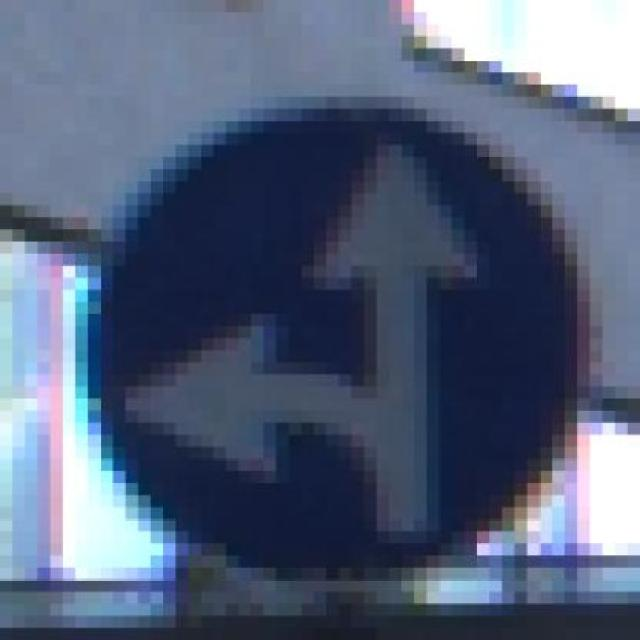Go straight or turn left: (38, 72, 602, 592)
